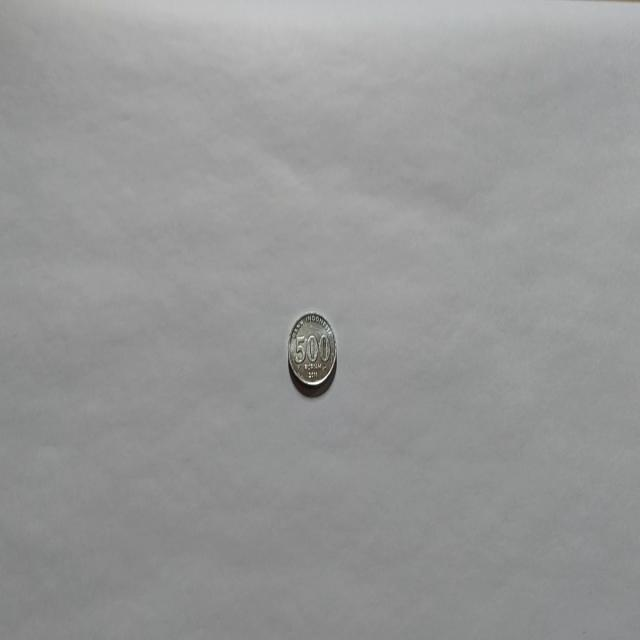lima ratus rupiah: (286, 310, 338, 396)
